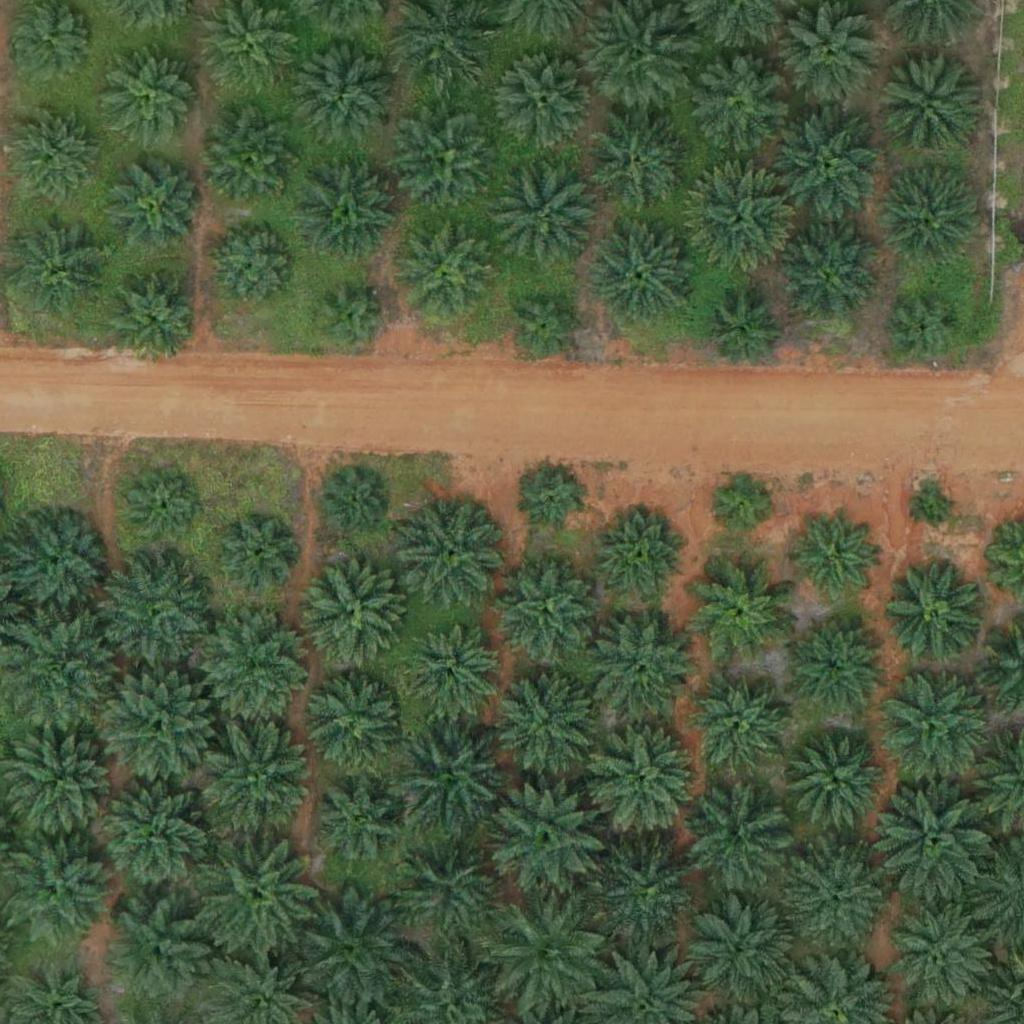Kelapa_Sawit: (94, 775, 219, 901), (195, 717, 320, 843), (194, 832, 319, 958), (290, 888, 415, 1014), (386, 708, 511, 834), (385, 827, 510, 953), (486, 777, 611, 903), (484, 895, 609, 1021), (869, 781, 994, 907), (582, 720, 707, 845), (6, 728, 119, 842), (772, 107, 885, 220), (4, 833, 117, 946), (98, 899, 211, 1012), (198, 610, 311, 723), (101, 666, 213, 780), (685, 168, 797, 281), (96, 551, 208, 664), (878, 664, 990, 777), (881, 900, 993, 1013), (779, 225, 879, 326), (588, 116, 688, 217), (592, 223, 692, 324), (495, 52, 595, 153), (495, 161, 595, 262), (396, 110, 496, 211), (396, 222, 496, 323), (296, 42, 396, 143), (297, 164, 397, 265), (202, 108, 302, 209), (100, 49, 200, 150), (303, 560, 403, 661), (302, 675, 402, 776), (405, 501, 505, 602), (399, 622, 499, 723), (496, 558, 596, 659), (496, 670, 596, 771), (591, 615, 691, 716), (599, 842, 699, 943), (693, 562, 793, 663), (688, 677, 788, 778), (689, 791, 789, 892), (693, 895, 793, 996), (785, 614, 885, 715), (787, 730, 887, 831), (784, 846, 884, 947), (877, 53, 977, 153), (882, 167, 982, 267), (783, 6, 883, 106), (689, 56, 789, 156), (103, 266, 203, 366), (9, 216, 109, 316), (4, 514, 104, 614), (309, 771, 409, 871), (885, 559, 985, 659), (208, 222, 296, 310), (790, 514, 878, 602), (113, 162, 200, 250), (9, 105, 96, 193), (602, 511, 689, 599), (125, 472, 200, 548), (888, 289, 963, 365), (314, 281, 389, 357), (222, 516, 297, 591), (706, 295, 781, 370), (510, 289, 585, 364), (323, 470, 386, 533), (523, 468, 585, 531), (709, 469, 771, 532), (916, 489, 953, 527)
